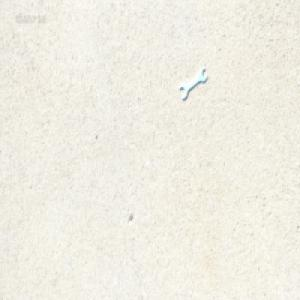Wrench: (180, 66, 206, 98)
